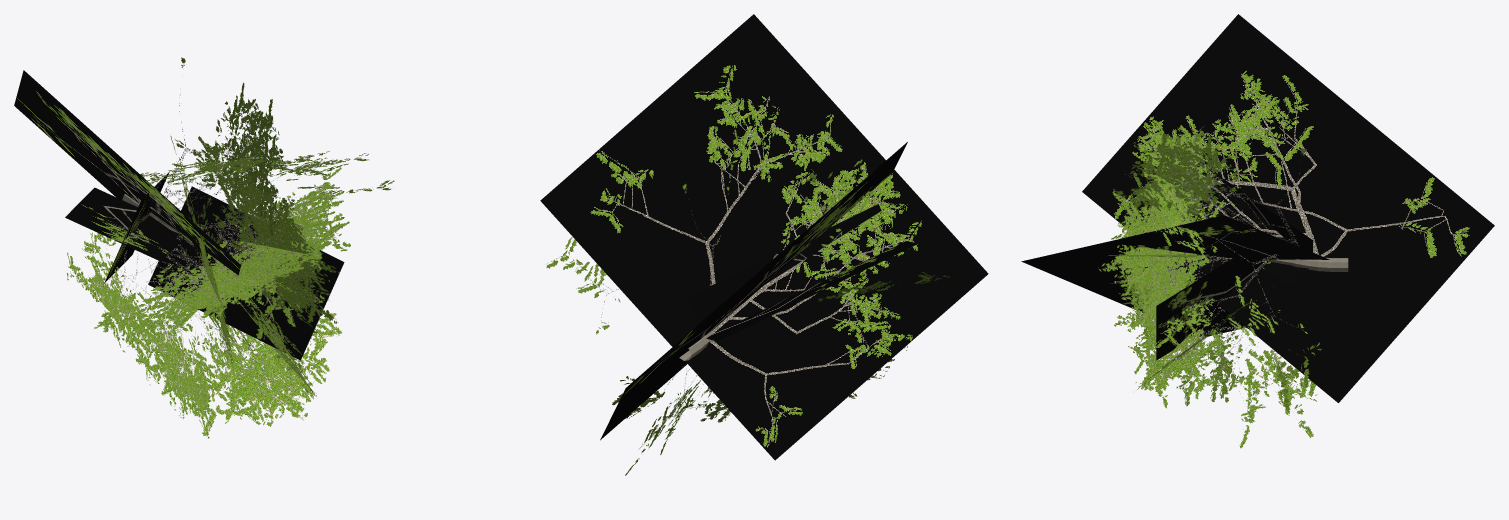
The picture shows the model from 3 angles, left to right: view 1: azimuth 30°, elevation 25°; view 2: azimuth 150°, elevation 25°; view 3: azimuth 270°, elevation 25°; orthographic projection. The views are drawn at different scales.
Parts seen in each view (by area): view 1: billborad6, billborad4, billborad15, billborad2, billborad10, billborad3, billborad1, billborad9, billborad13, billborad8, billborad11, billborad0 (+1 smaller); view 2: billborad14, billborad15, billborad12, billborad13, billborad6, billborad8, billborad11; view 3: billborad15, billborad7, billborad2, billborad11, billborad9, billborad4, billborad8, billborad6, billborad12, trucks, billborad5, billborad0 (+1 smaller).
Boxes of the visible parts, box(x1,y1,x2,y2) form: billborad6: box(67, 232, 257, 438); billborad4: box(148, 186, 344, 360); billborad15: box(14, 70, 241, 275); billborad2: box(174, 136, 339, 333); billborad10: box(152, 213, 342, 436); billborad3: box(151, 167, 350, 321); billborad1: box(94, 233, 300, 335); billborad9: box(164, 57, 289, 256); billborad13: box(65, 187, 184, 261); billborad8: box(129, 151, 394, 213); billborad11: box(208, 297, 316, 401); billborad0: box(170, 136, 233, 366); billborad14: box(540, 14, 988, 460); billborad15: box(600, 142, 907, 440); billborad12: box(687, 204, 881, 324); billborad13: box(706, 241, 917, 341); billborad6: box(612, 272, 950, 422); billborad8: box(546, 159, 873, 334); billborad11: box(625, 369, 713, 475); billborad15: box(1082, 14, 1494, 402); billborad7: box(1021, 215, 1329, 336); billborad2: box(1099, 138, 1231, 348); billborad11: box(1114, 288, 1317, 448); billborad9: box(1113, 133, 1306, 246); billborad4: box(1156, 248, 1266, 360); billborad8: box(1134, 120, 1307, 345); billborad6: box(1130, 286, 1321, 410); billborad12: box(1210, 170, 1312, 252); trucks: box(1265, 257, 1348, 271); billborad5: box(1155, 261, 1266, 335); billborad0: box(1111, 126, 1212, 316).
Size of the model in its own units: 33.77 by 37.18 by 39.27.
